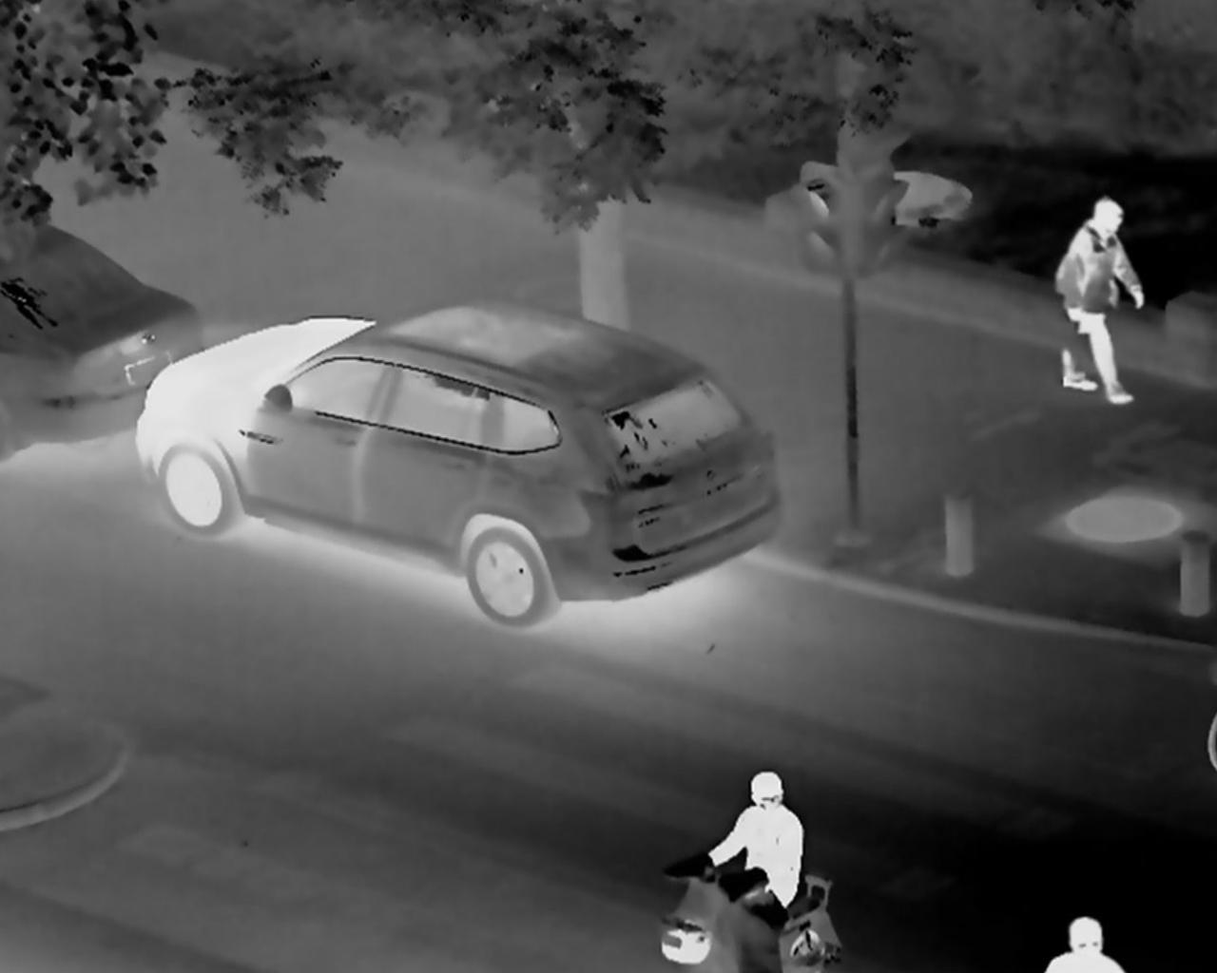person: (705, 759, 817, 921), (1062, 182, 1140, 413), (1048, 906, 1105, 973)
